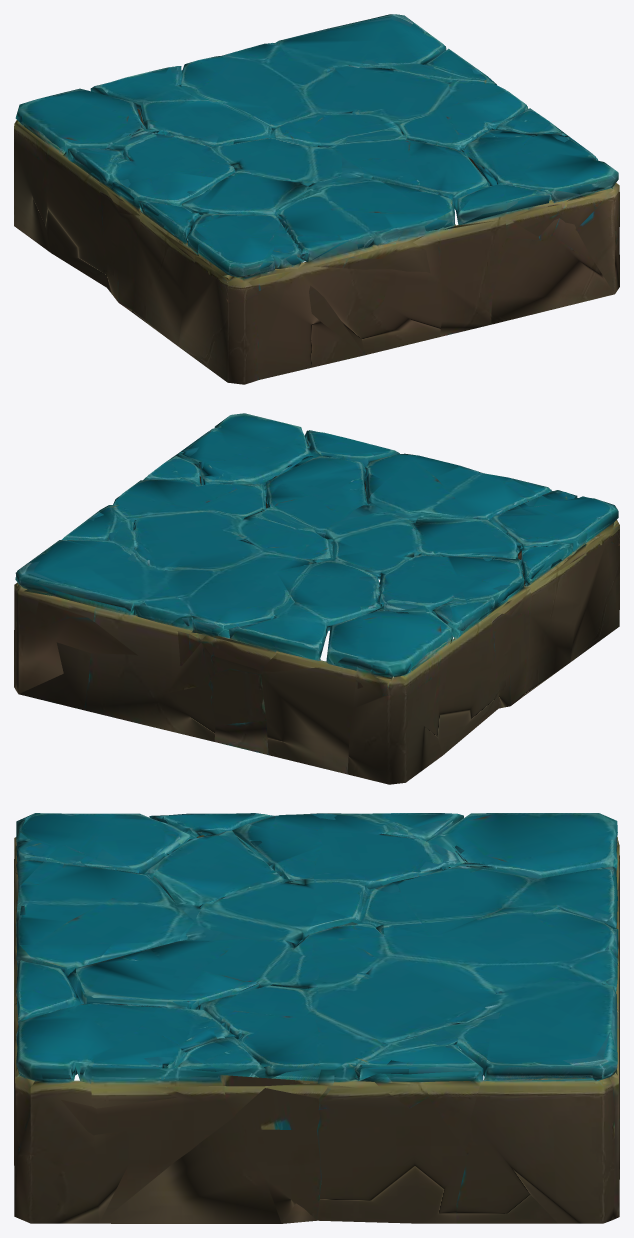
The model's file is water.glb.
The picture shows the model from 3 angles, top to bottom: view 1: azimuth 30°, elevation 25°; view 2: azimuth 150°, elevation 25°; view 3: azimuth 270°, elevation 25°; orthographic projection. The views are drawn at different scales.
Size of the model in its own units: 1.9 by 0.545 by 1.9.
Materials: 1 (1 with a texture image).
